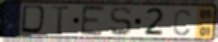2: (143, 7, 168, 37)
C: (172, 8, 193, 37)
D: (19, 4, 49, 36)
E: (79, 5, 107, 37)
S: (108, 6, 134, 38)
T: (50, 5, 71, 36)
